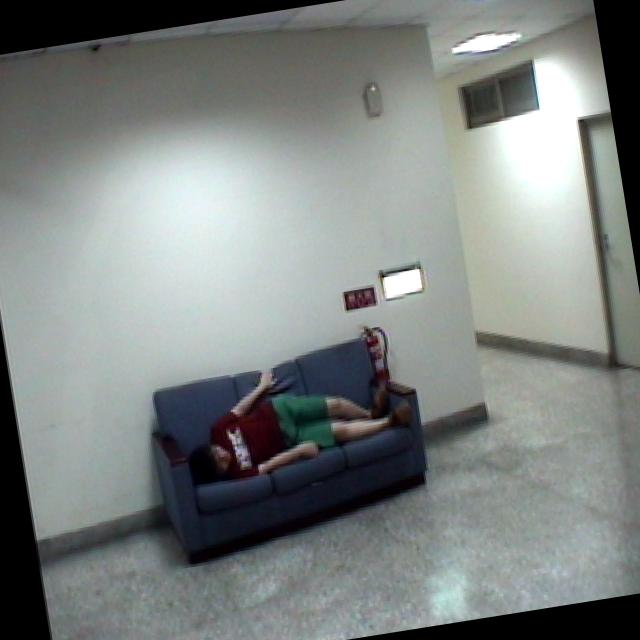lie: (170, 348, 420, 494)
